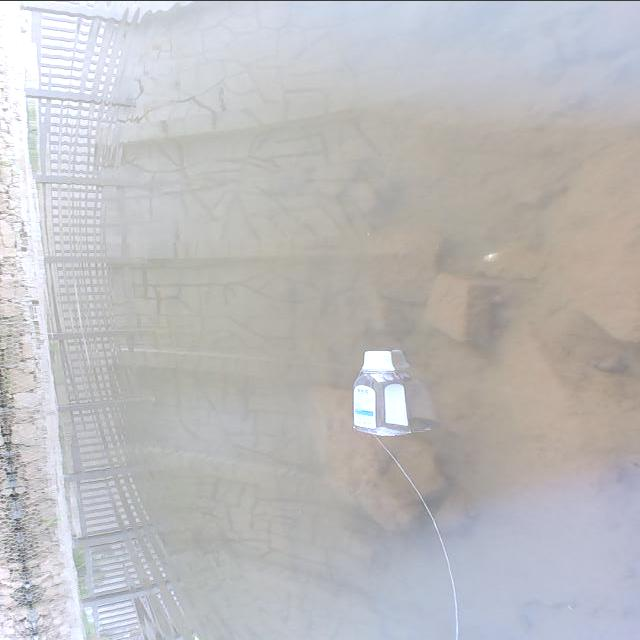bottle: (342, 336, 406, 452)
